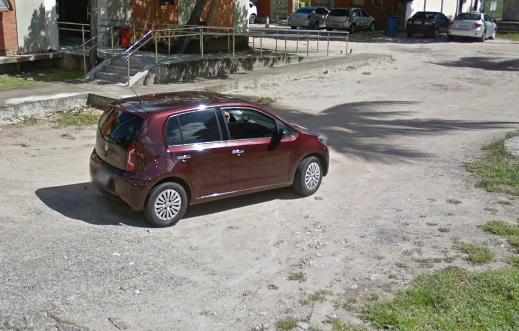car: (90, 83, 334, 228)
